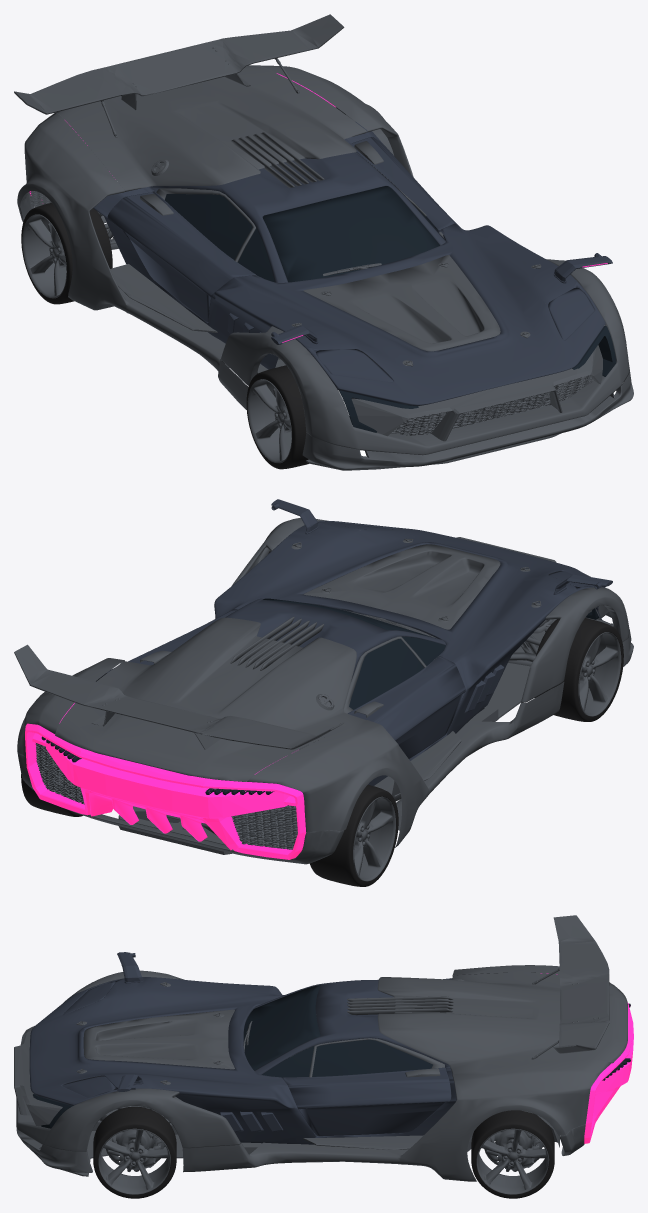
The model's file is car.glb.
The picture shows the model from 3 angles, top to bottom: view 1: azimuth 30°, elevation 25°; view 2: azimuth 150°, elevation 25°; view 3: azimuth 270°, elevation 25°; orthographic projection. The views are drawn at different scales.
Visible parts, largest first — view 1: CAR_HERO; view 2: CAR_HERO; view 3: CAR_HERO.
Part boxes in pixels (x1,y1,x2,y2): CAR_HERO: [14, 14, 633, 470]; CAR_HERO: [14, 499, 633, 886]; CAR_HERO: [14, 915, 633, 1198].
Bounding box in the file's own units: 2.78 × 1.45 × 5.33.
